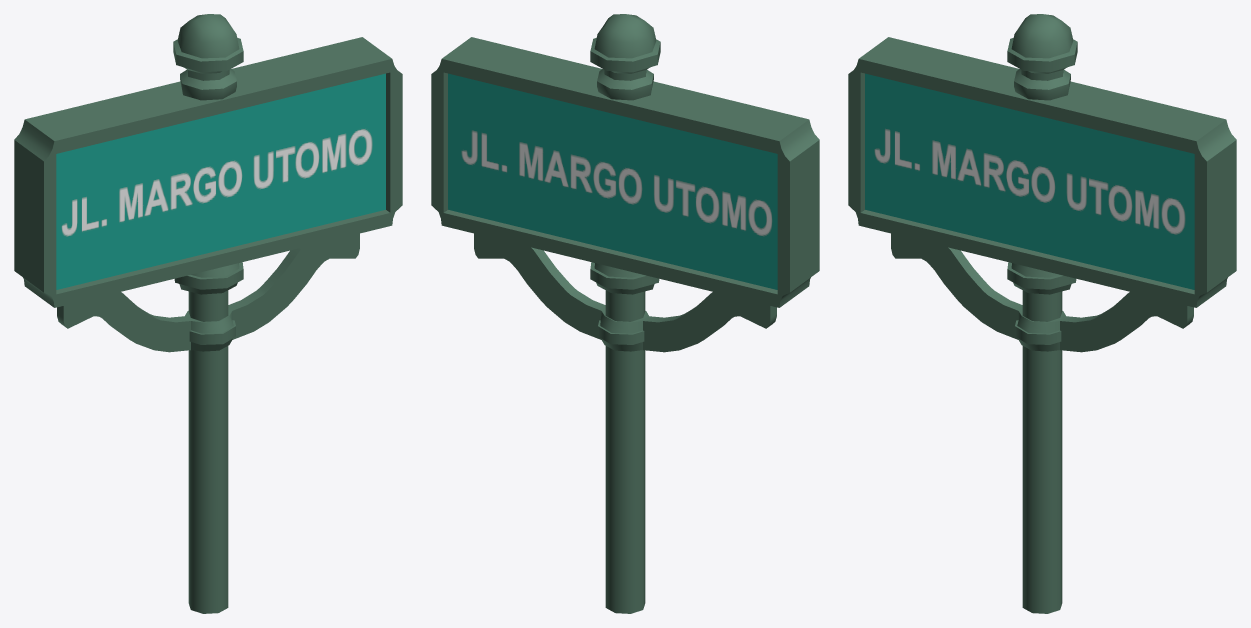
Rendered from Plang_MargoUtomo.fbx.
3 renders of one model, left to right at view 1: azimuth 30°, elevation 25°; view 2: azimuth 150°, elevation 25°; view 3: azimuth 330°, elevation 25°, orthographic.
Visible parts, largest first — view 1: Plang_Margo_Utomo; view 2: Plang_Margo_Utomo; view 3: Plang_Margo_Utomo.
Part boxes in pixels (left/top/right/bottom): Plang_Margo_Utomo: left=14, top=14, right=402, bottom=613; Plang_Margo_Utomo: left=431, top=14, right=819, bottom=613; Plang_Margo_Utomo: left=848, top=14, right=1236, bottom=613.
Size of the model in its own units: 98.27 by 155 by 17.81.
1 material, 1 textured.
